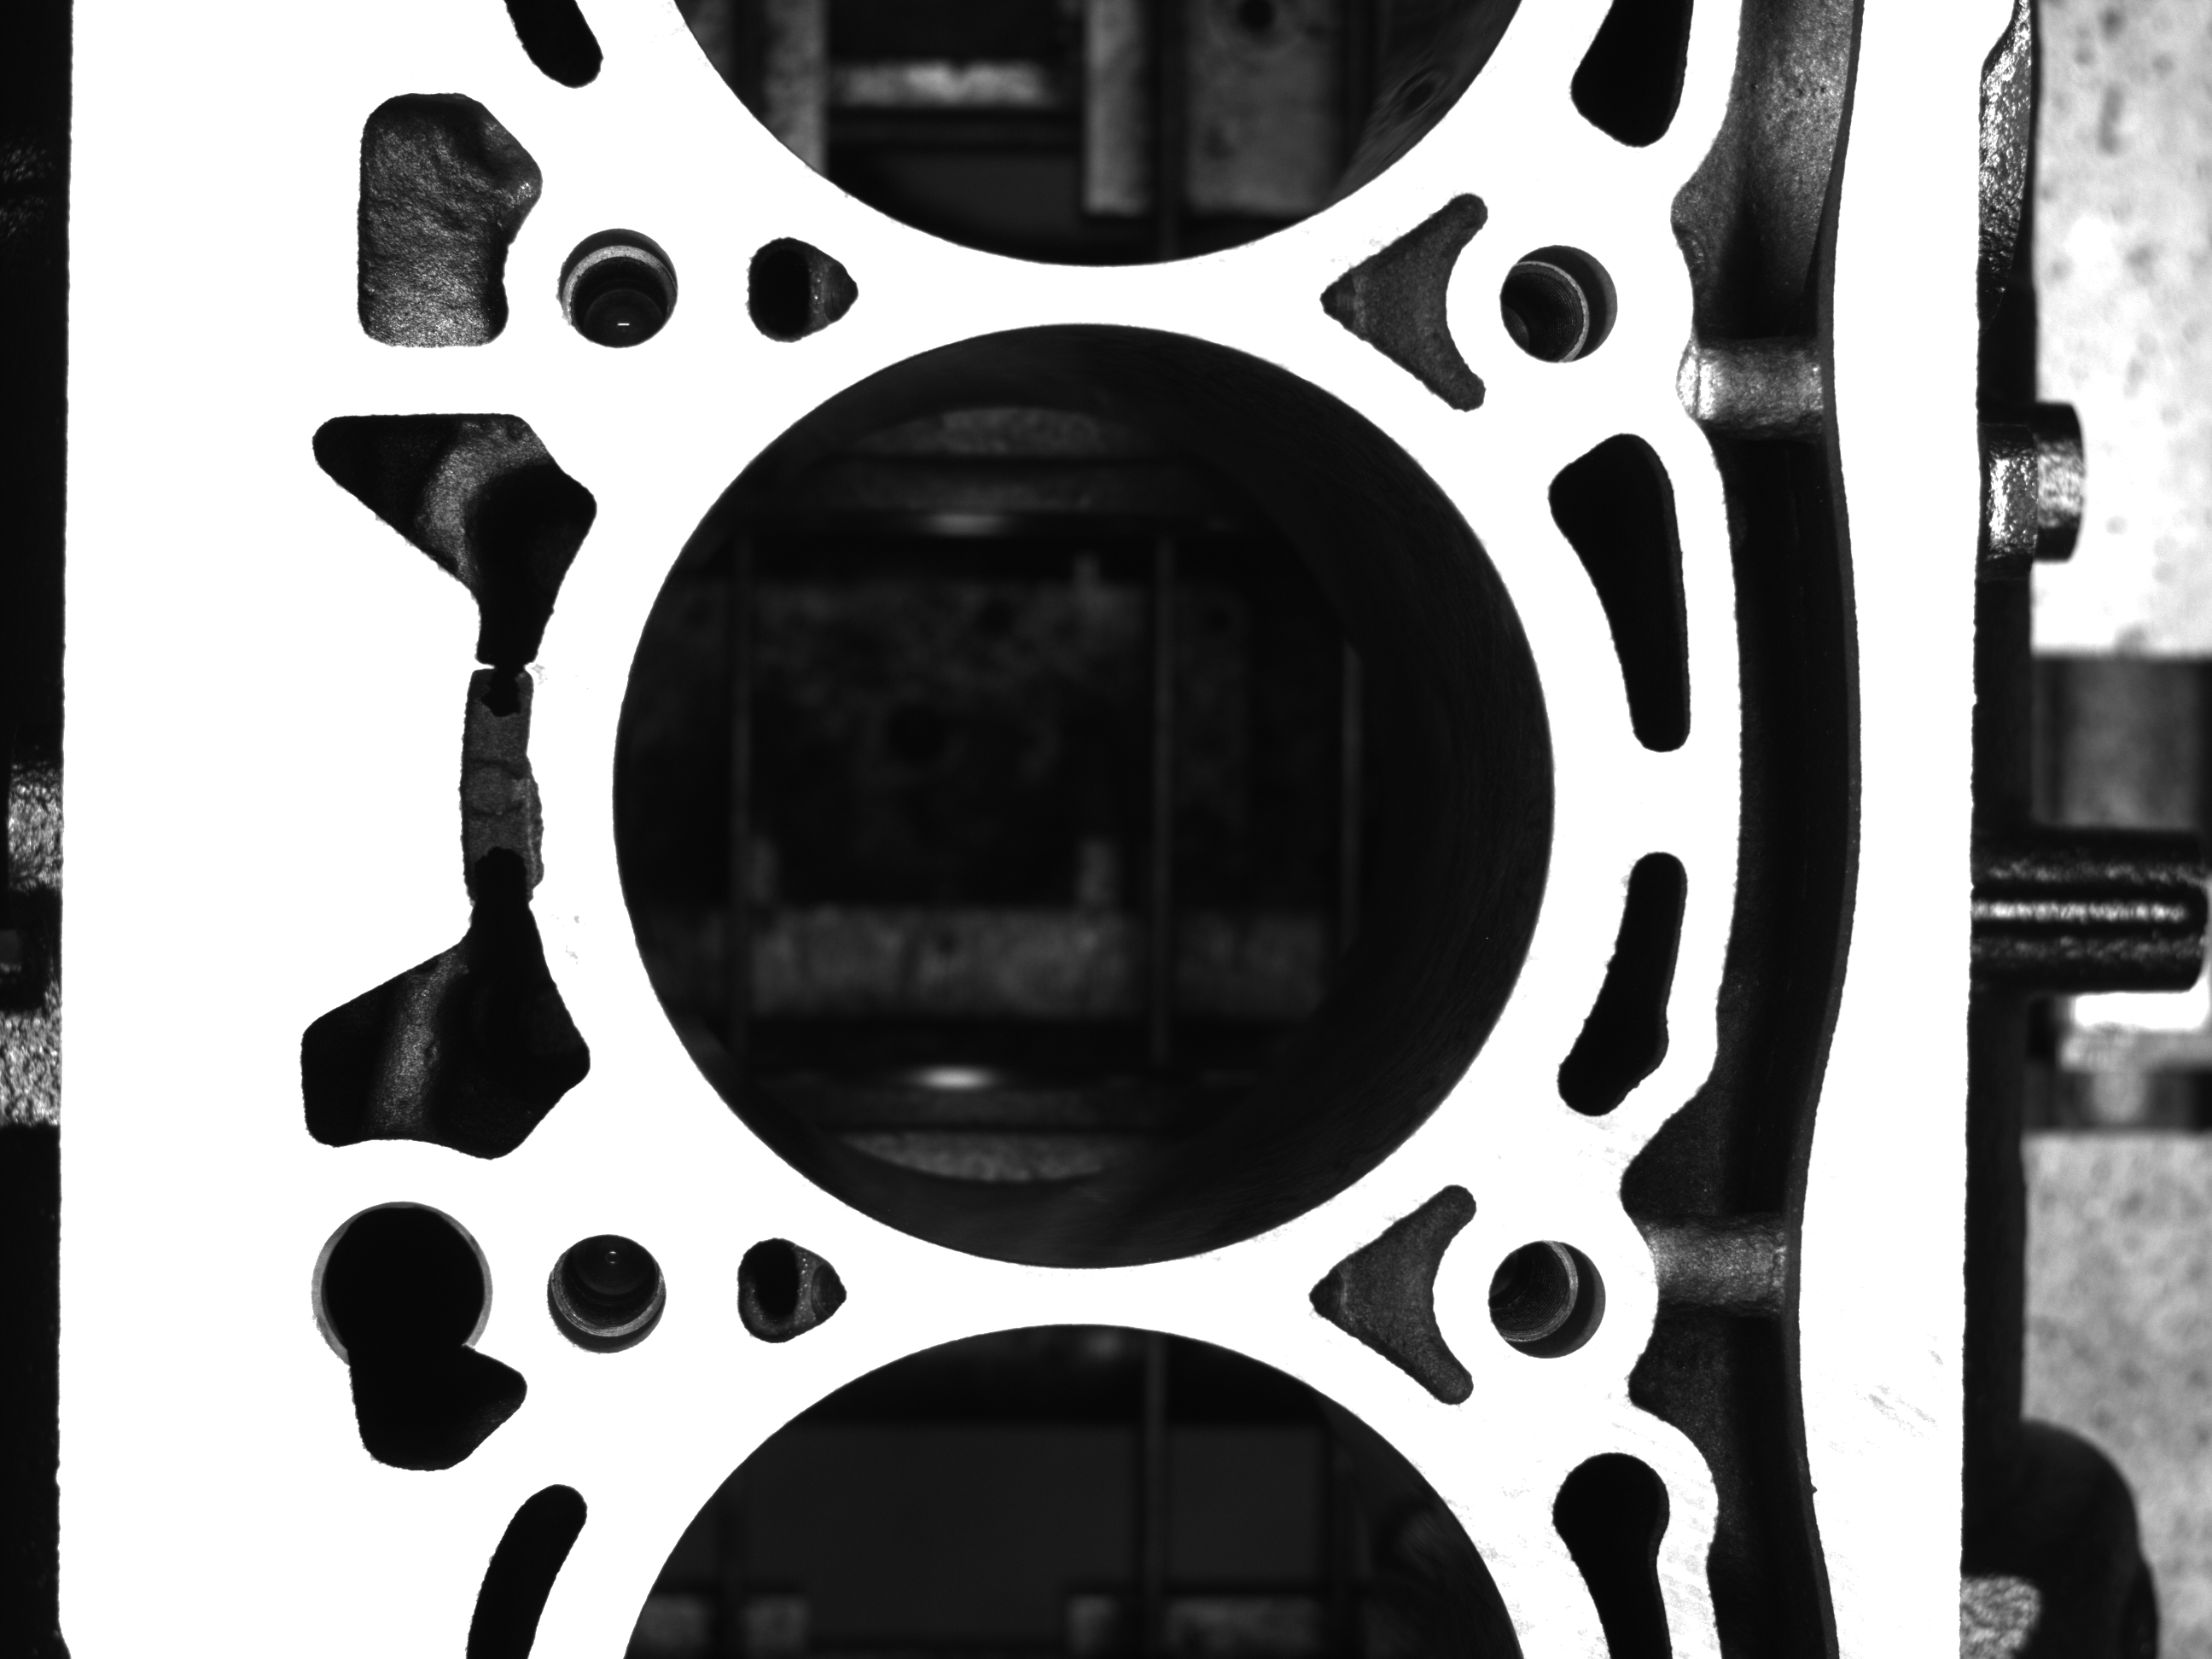shrinkage: (510, 669, 543, 911)
